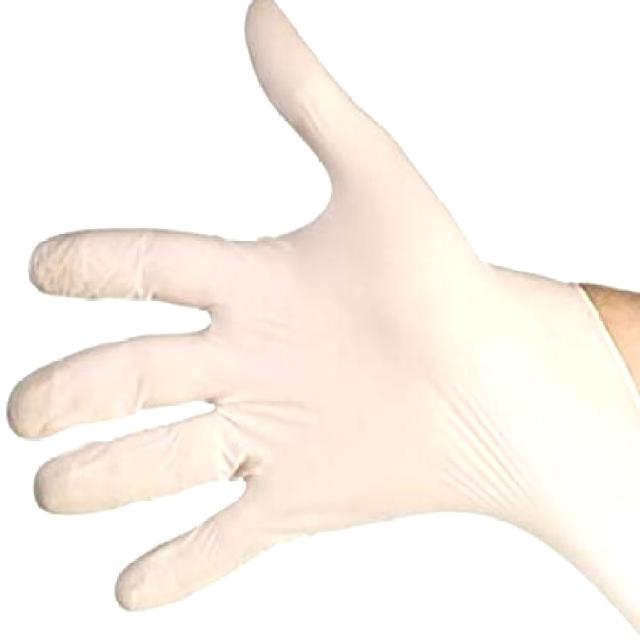glove: (4, 0, 593, 638)
